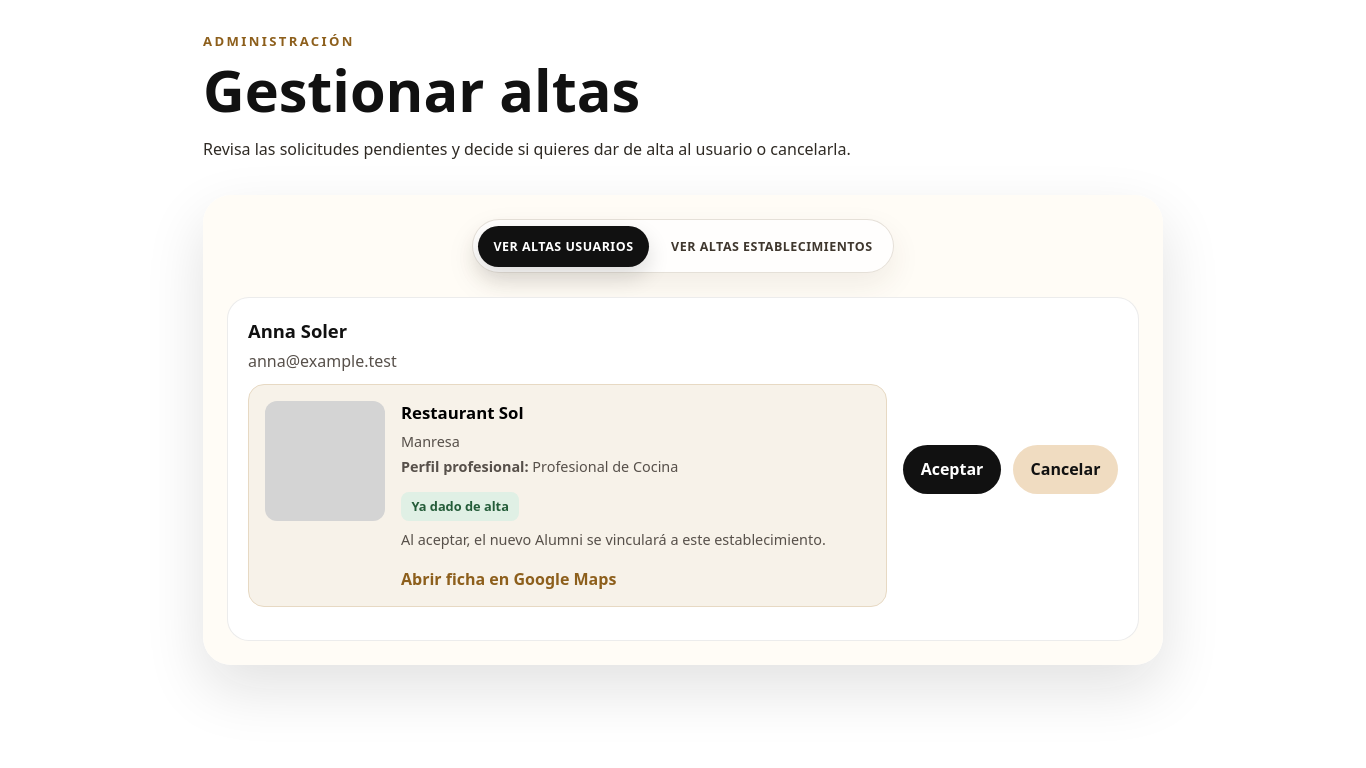
Test: shows the photo, exact Maps place and registration status in the card and confirmation (existing: true)
Expected: the heading "Anna Soler" is shown, x1=248 y1=318 x2=347 y2=343
Expected: the text "Ya dado de alta" is shown, x1=401 y1=492 x2=519 y2=521
Click the button "Aceptar": click(952, 469) x1=903 y1=445 x2=1001 y2=494
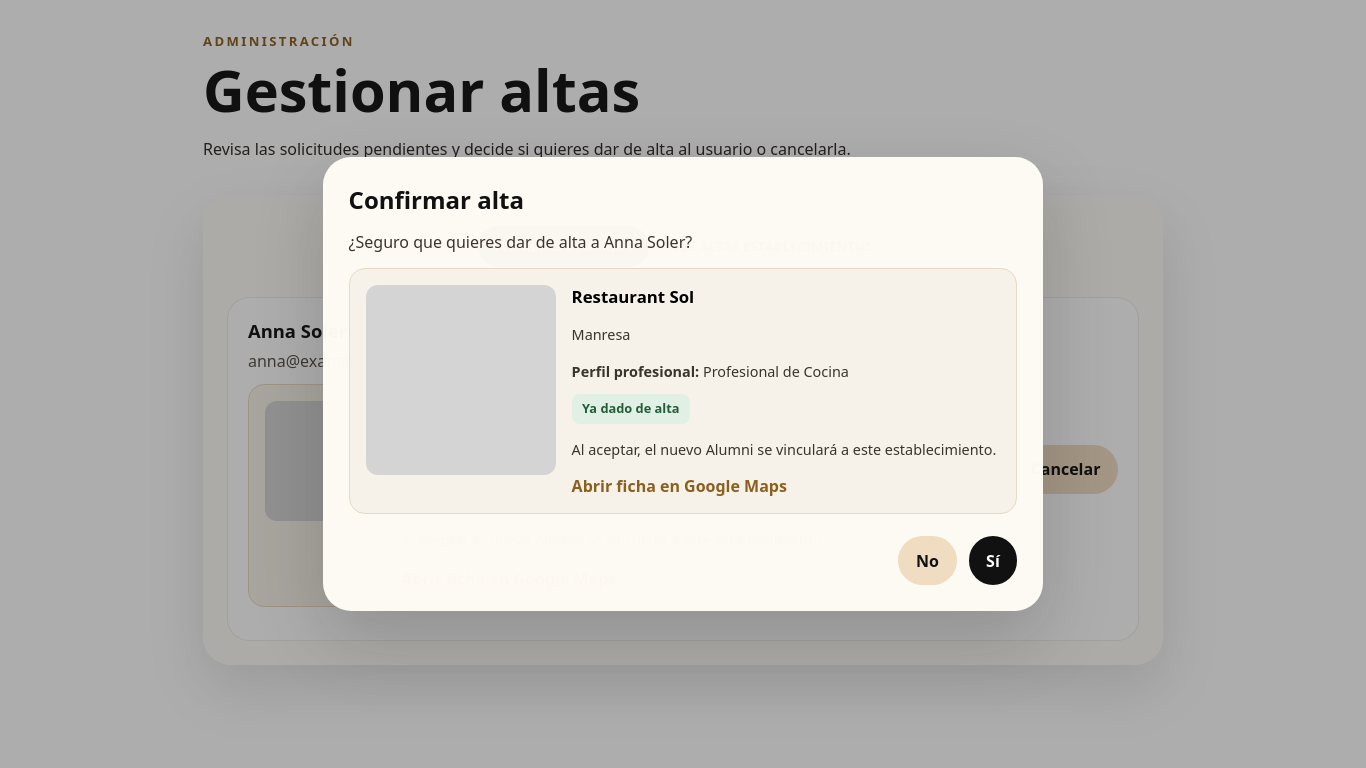
Expected: the text "Ya dado de alta" is shown, x1=572 y1=394 x2=690 y2=424
